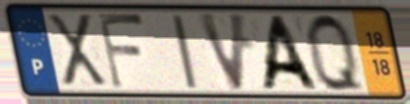A: (257, 13, 323, 93)
F: (94, 10, 149, 93)
I: (168, 12, 201, 92)
Q: (303, 9, 370, 97)
V: (194, 9, 250, 95)
X: (43, 11, 111, 90)
